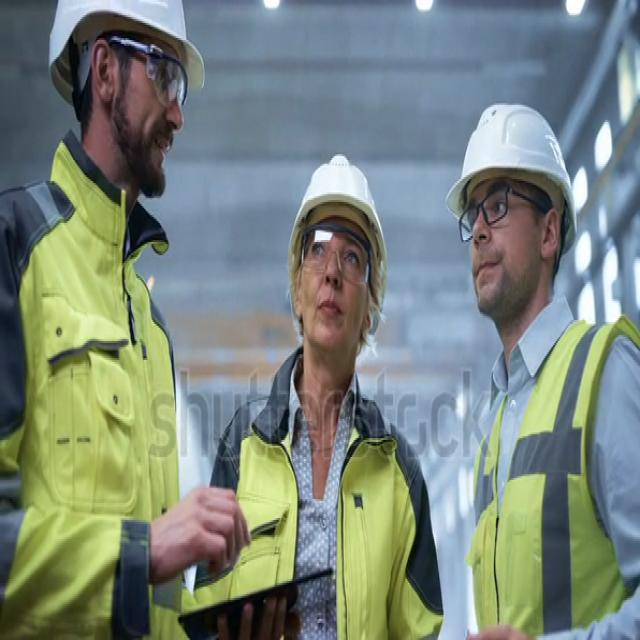Glasses: (107, 32, 189, 114), (458, 182, 552, 251), (301, 224, 373, 294)
Helmet: (44, 0, 211, 99), (445, 98, 578, 220), (289, 152, 390, 270)
Vest: (0, 183, 181, 640), (208, 364, 442, 640), (472, 310, 638, 640)
